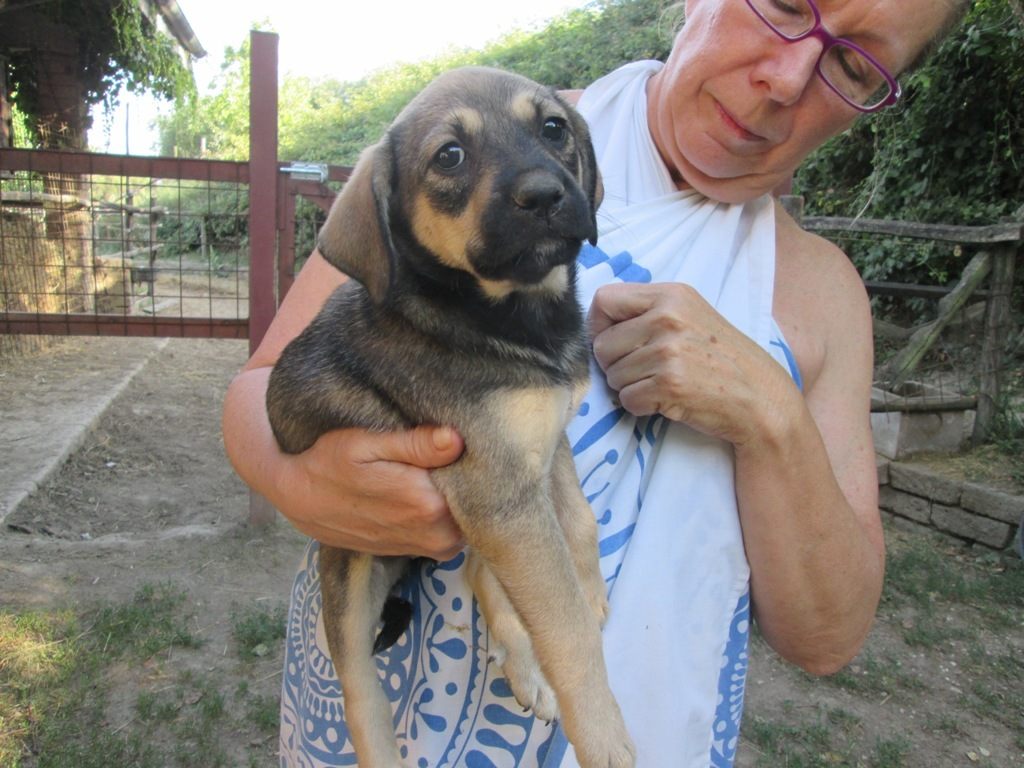Human_hand: (585, 280, 801, 444), (280, 423, 464, 562)
